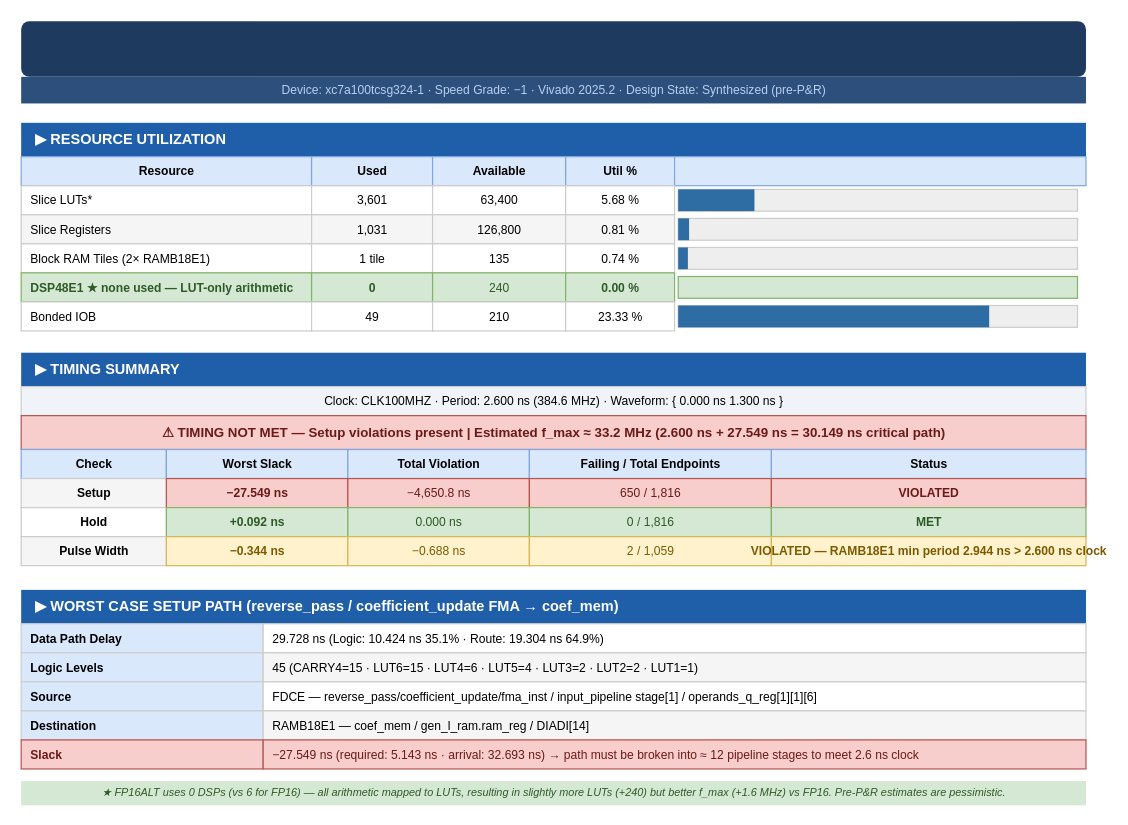
This 1128x825 diagram has some shape labels left out. Each missing label, with the centre of its shape:
"FP16ALT — Polynomial Regression Synthesis Summary" goes at [553,48].
"Usage Bar (full bar = 30 %)" goes at [879,170].
